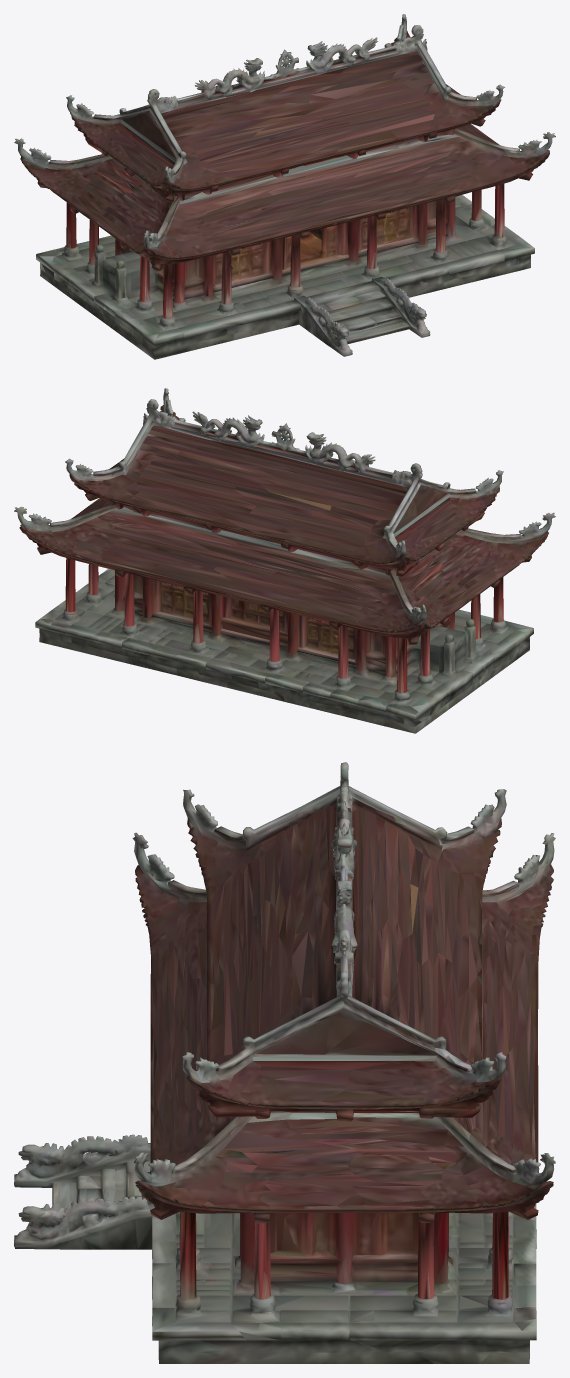
File: main-shell.glb
The picture shows the model from 3 angles, top to bottom: view 1: azimuth 30°, elevation 25°; view 2: azimuth 150°, elevation 25°; view 3: azimuth 270°, elevation 25°; orthographic projection. The views are drawn at different scales.
Visible parts, largest first — view 1: cdngoai; view 2: cdngoai; view 3: cdngoai.
Part boxes in pixels (bbox=[...]): cdngoai: bbox=[14, 14, 555, 359]; cdngoai: bbox=[14, 388, 555, 733]; cdngoai: bbox=[14, 762, 555, 1363].
Bounding box in the file's own units: 0.9785 × 0.5043 × 0.6872.
Materials: 1 (1 with a texture image).
